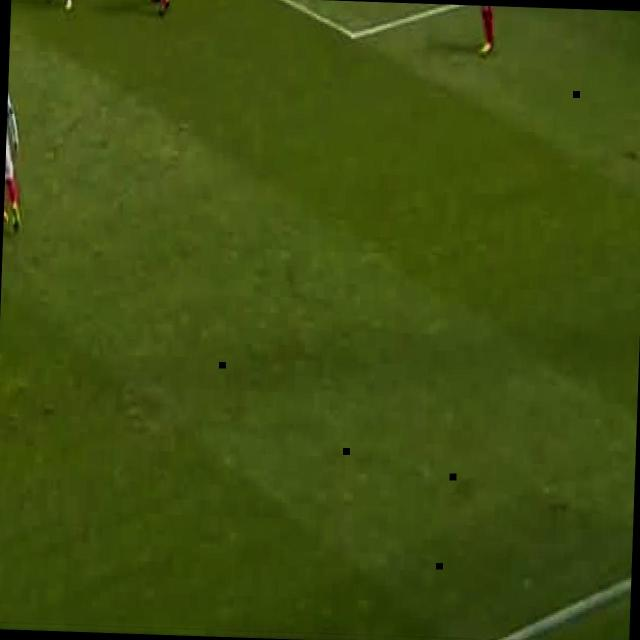player-white: (3, 62, 28, 230), (470, 5, 506, 56), (148, 0, 172, 14), (42, 0, 74, 9)
